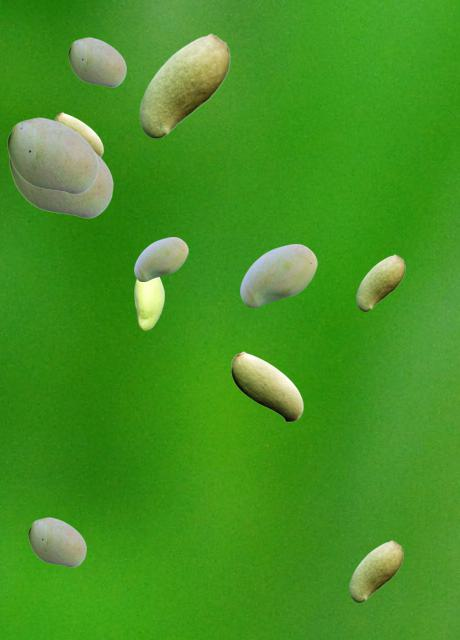green_mango: (139, 33, 229, 137), (7, 117, 97, 193), (9, 152, 112, 217), (231, 351, 302, 421), (240, 244, 316, 306), (349, 540, 402, 601), (28, 517, 85, 566), (68, 37, 125, 86), (356, 254, 404, 310), (134, 237, 187, 280), (54, 112, 102, 156), (134, 277, 163, 329)
